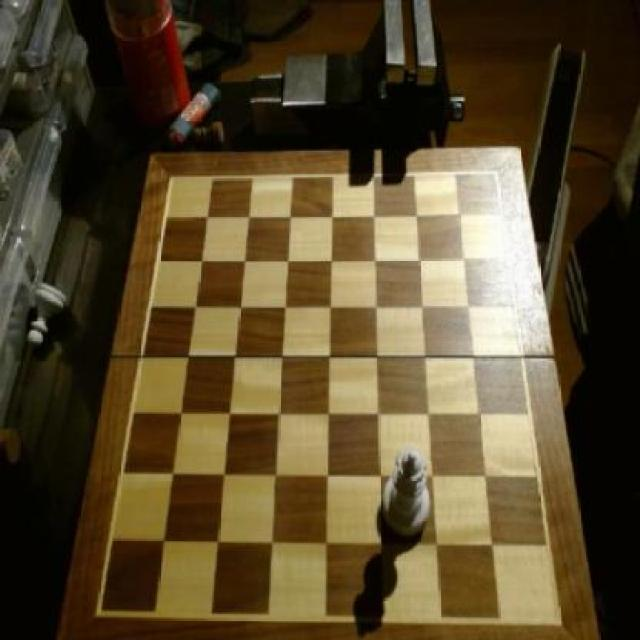white-pawn: (381, 442, 437, 543)
